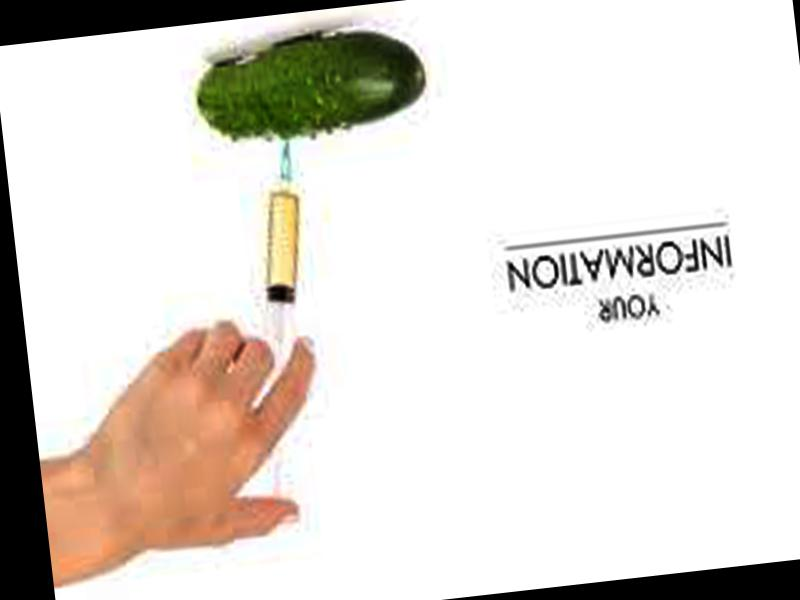Cucumber: (189, 29, 429, 148)
